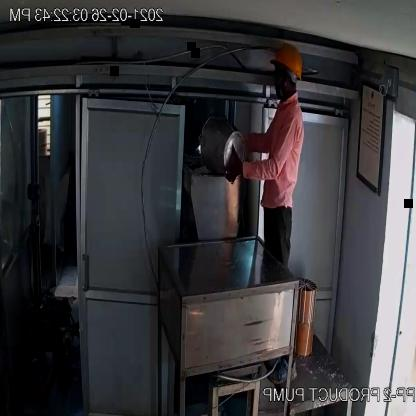helmet: (268, 40, 309, 79)
